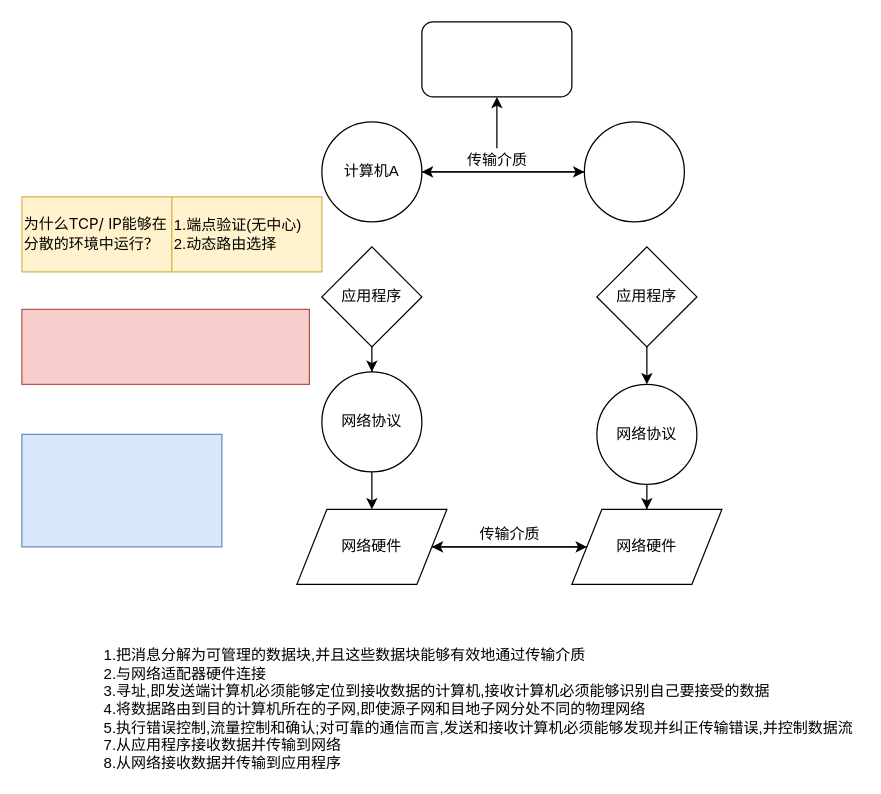
This 881x794 diagram has some shape labels left out. Each missing label, with the box of its shape:
TCP/IP特性: 逻辑编址 路由选择 域名解析 错误控制和流量控制 应用支持: (21, 433, 222, 547)
网络协议: 定义网络通信过程 定义数据单元的格式和内容 以便接收计算机能够正确解释收到的讯息: (21, 308, 309, 384)
计算机B: (583, 121, 684, 222)
金属导线(网线) 电话线 无线网络: (421, 21, 572, 97)
